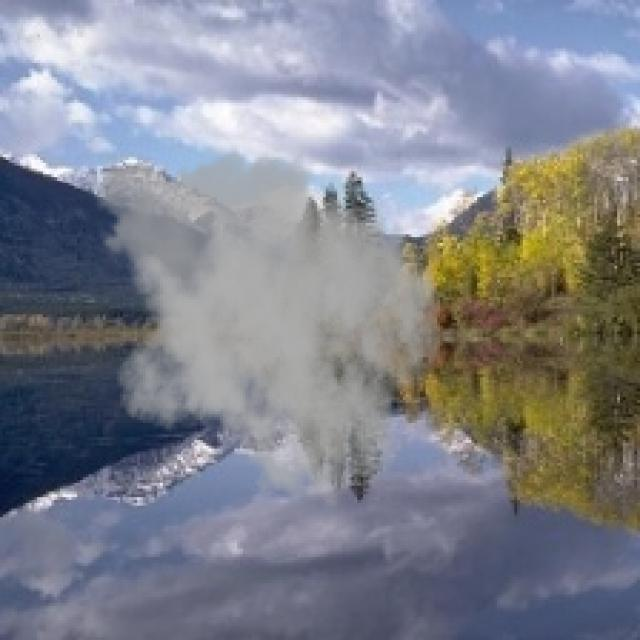smoke: (80, 140, 443, 511)
